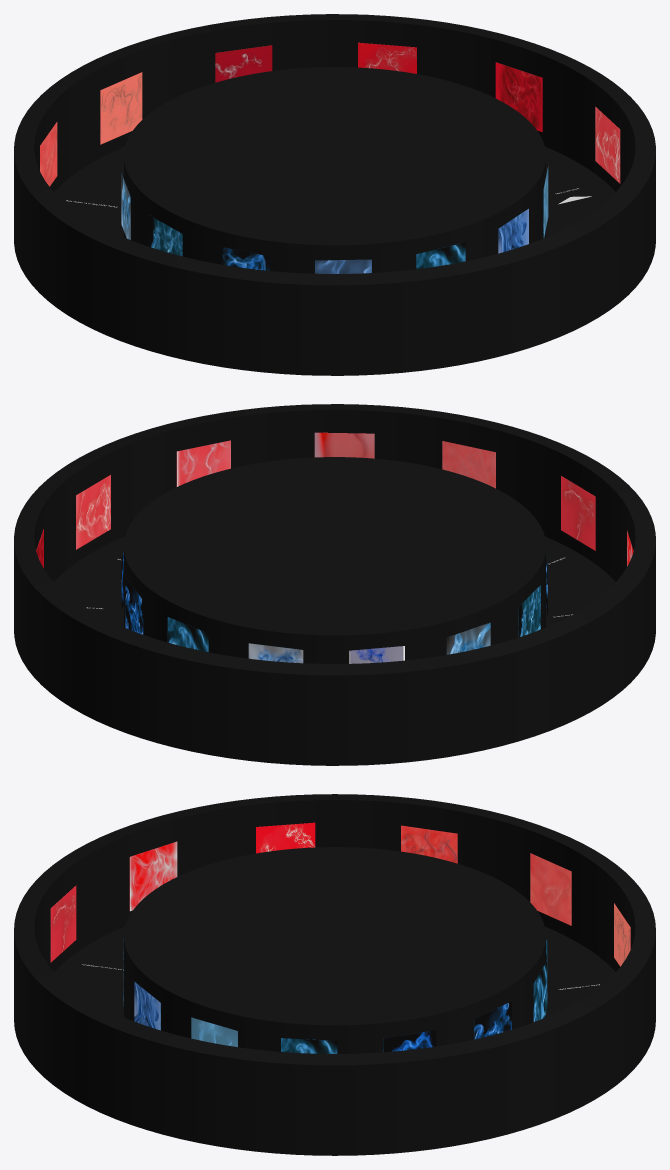
Rendered from botswana.glb.
The picture shows the model from 3 angles, top to bottom: view 1: azimuth 30°, elevation 25°; view 2: azimuth 150°, elevation 25°; view 3: azimuth 270°, elevation 25°; orthographic projection.
Parts seen in each view (by area): view 1: Cylinder, causrod_exterior, Cuadros_interior; view 2: Cylinder, causrod_exterior, Cuadros_interior; view 3: Cylinder, causrod_exterior, Cuadros_interior.
Part boxes in pixels (x1,y1,x2,y2): Cylinder: [14, 14, 655, 375]; causrod_exterior: [40, 42, 620, 186]; Cuadros_interior: [121, 166, 548, 273]; Cylinder: [14, 404, 655, 765]; causrod_exterior: [36, 432, 633, 567]; Cuadros_interior: [121, 552, 547, 663]; Cylinder: [14, 794, 655, 1155]; causrod_exterior: [50, 822, 630, 966]; Cuadros_interior: [123, 939, 547, 1053].
Bounding box in the file's own units: 11.25 × 1.8 × 11.25.
26 materials, 25 textured.
